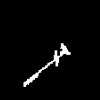double_crochet: (24, 44, 69, 86)
